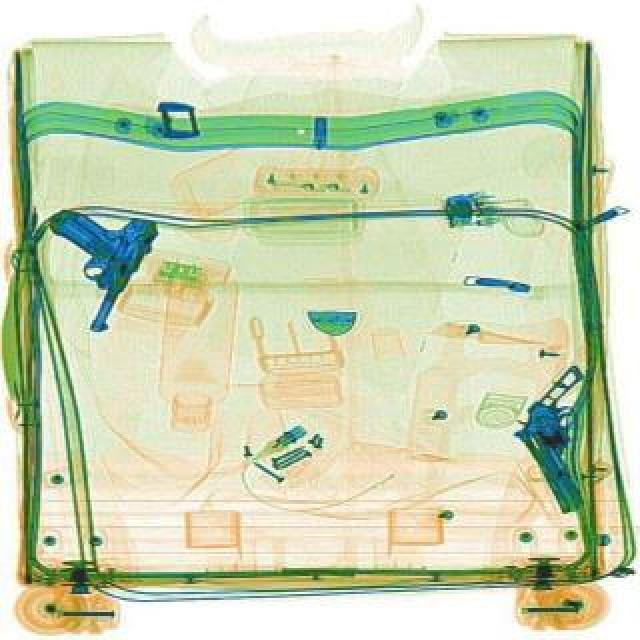gun: (12, 186, 162, 334), (496, 364, 638, 512)
